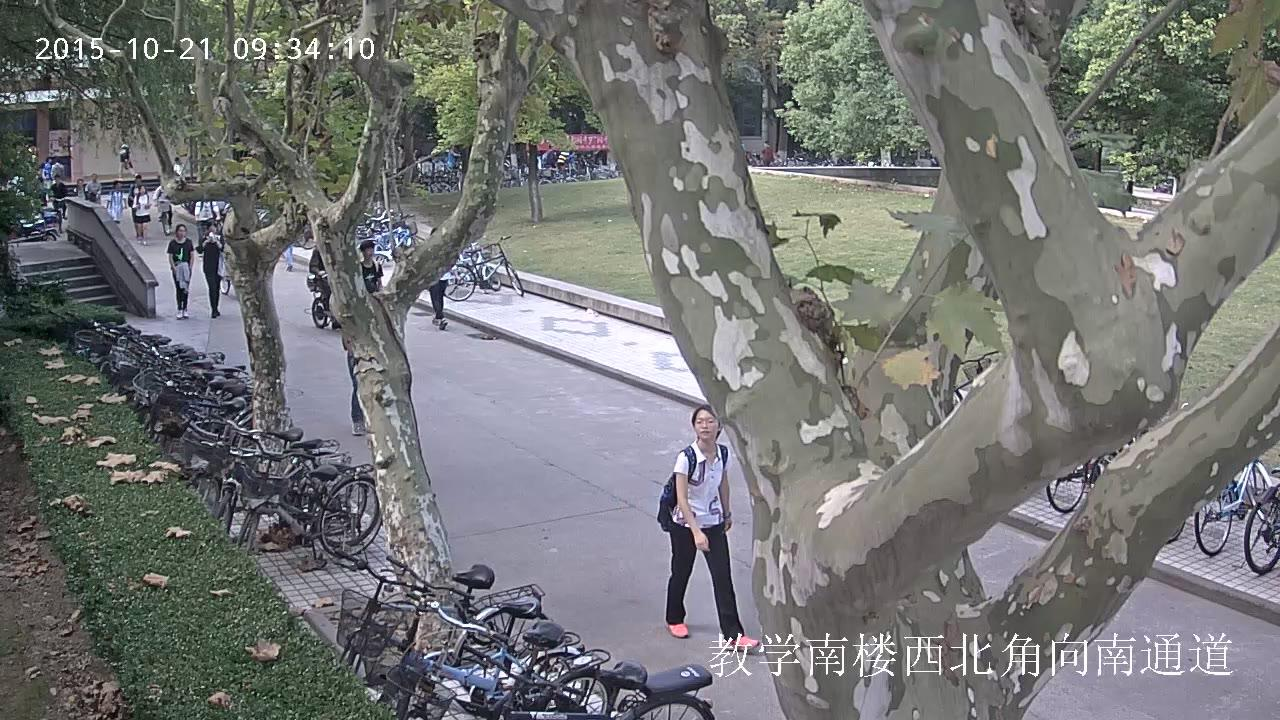person: (656, 404, 761, 650), (307, 244, 345, 329), (423, 227, 450, 330), (197, 221, 225, 319), (167, 223, 194, 319), (308, 244, 333, 318), (193, 200, 220, 252), (360, 239, 383, 292), (151, 185, 175, 235), (131, 185, 151, 245), (48, 174, 68, 230), (153, 185, 174, 226), (108, 180, 127, 224), (48, 174, 67, 218), (117, 143, 139, 177), (128, 174, 146, 207), (84, 172, 101, 204), (84, 172, 101, 201), (49, 159, 65, 184), (173, 156, 186, 182)
